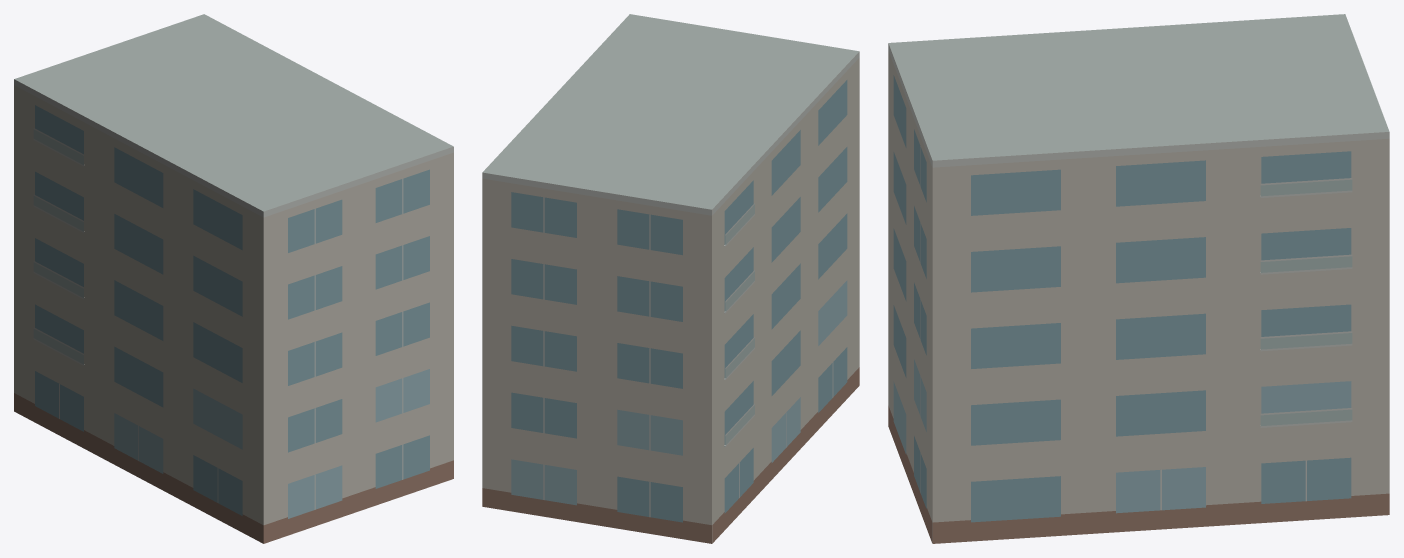
Rendered from survey-upis-32930385.glb.
3 renders of one model, left to right at view 1: azimuth 30°, elevation 25°; view 2: azimuth 150°, elevation 25°; view 3: azimuth 270°, elevation 25°, orthographic. The views are drawn at different scales.
Parts seen in each view (by area): view 1: survey-upis-32930385.tmp; view 2: survey-upis-32930385.tmp; view 3: survey-upis-32930385.tmp.
Boxes of the visible parts, <box> form: survey-upis-32930385.tmp: <box>14,14,453,543</box>; survey-upis-32930385.tmp: <box>482,14,859,543</box>; survey-upis-32930385.tmp: <box>888,14,1389,543</box>.
Bounding box in the file's own units: 11.18 × 13.6 × 16.14.
